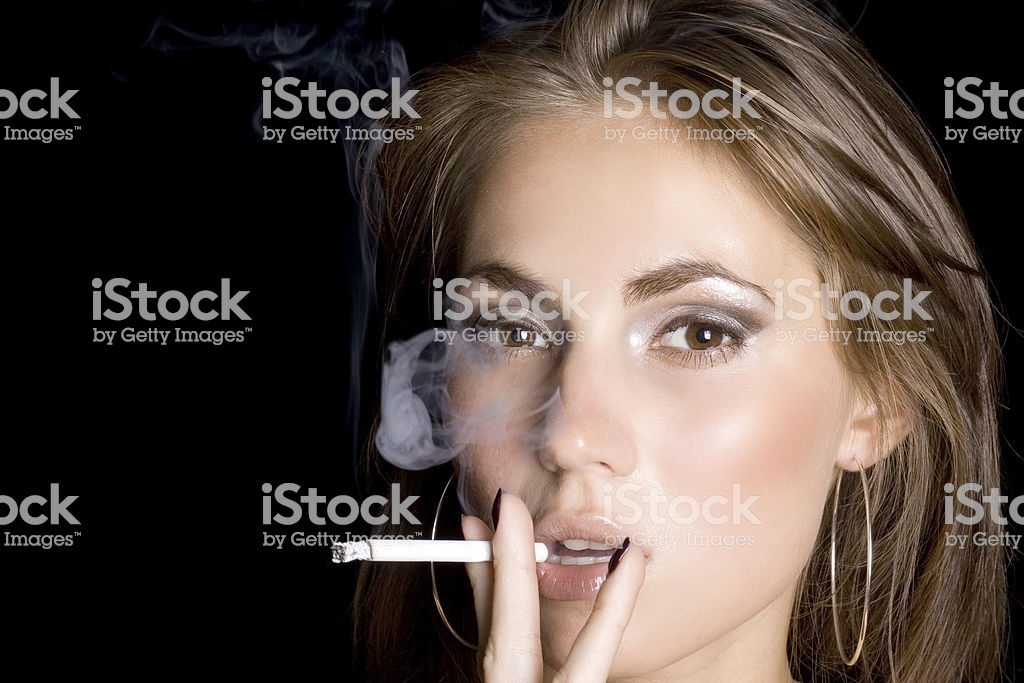sigaretta: (326, 533, 548, 563)
